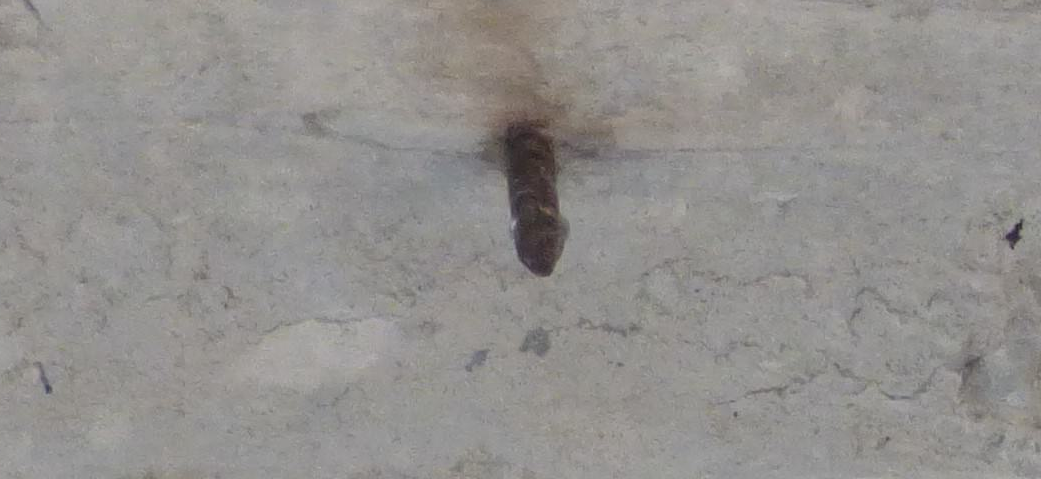Exposed reinforcement: (508, 132, 560, 279)
